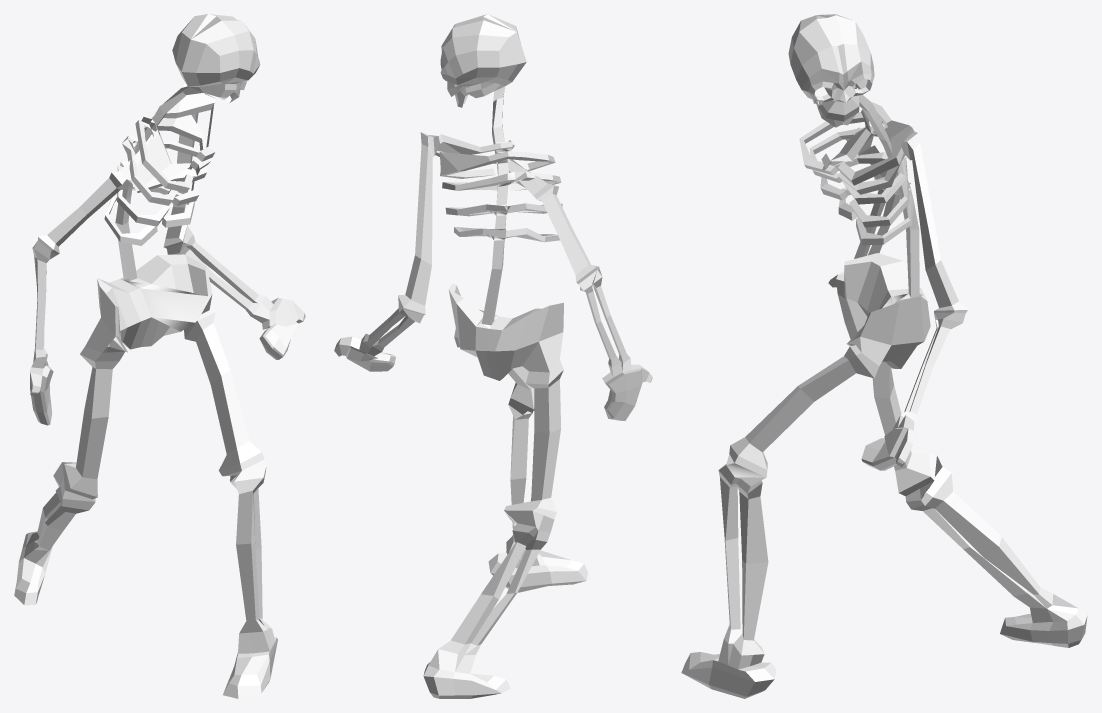
Rendered from SkeletonIdle(33).obj.
3 views of the same model, side by side, from view 1: azimuth 30°, elevation 25°; view 2: azimuth 150°, elevation 25°; view 3: azimuth 270°, elevation 25° (orthographic). The views are drawn at different scales.
Parts seen in each view (by area): view 1: Object002; view 2: Object002; view 3: Object002.
Part boxes in pixels (bbox=[...]): Object002: bbox=[14, 14, 305, 698]; Object002: bbox=[334, 14, 652, 698]; Object002: bbox=[681, 14, 1087, 698].
Bounding box in the file's own units: 561 × 1108 × 606.
